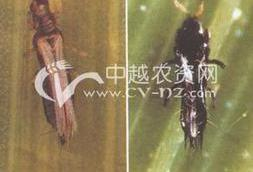Thripidae: (18, 1, 80, 144)
